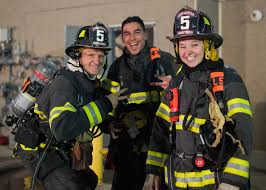emergent: (165, 8, 253, 190), (165, 8, 252, 190), (40, 22, 111, 190), (40, 21, 111, 189), (113, 19, 174, 190)
